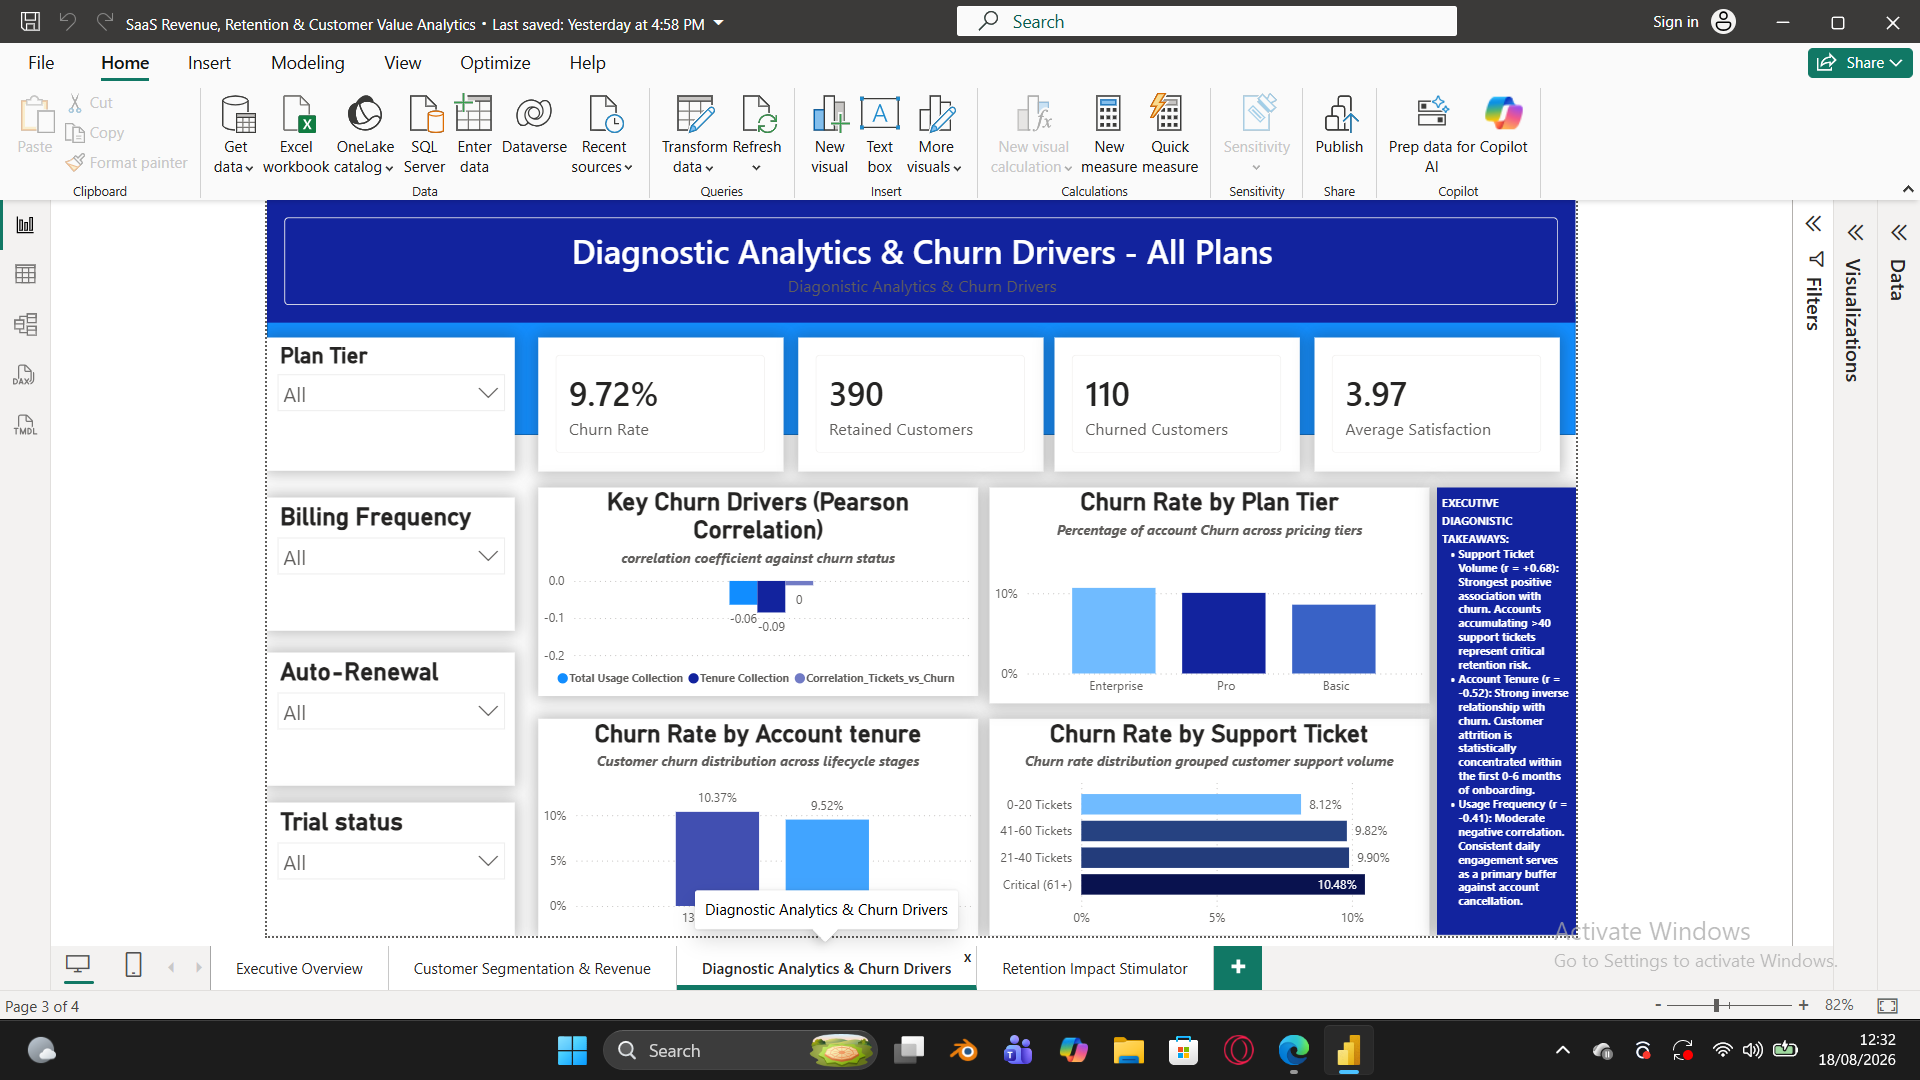

What the dashboard file says about the page in this screenshot:
{"tool":"powerbi","page":{"name":"Diagnostic Analytics & Churn Drivers","canvas":[1280,720],"ordinal":2},"visuals":[{"type":"shape","box":[0,100.3,1280.3,129.6],"z":0},{"type":"slicer","fields":{"Values":["clean_subscriptions.plan_tier"]},"box":[0,134.8,242.4,130.3],"z":1000},{"type":"slicer","fields":{"Values":["clean_subscriptions.billing_frequency"]},"box":[0,290.9,242.4,130.3],"z":2000},{"type":"slicer","fields":{"Values":["clean_subscriptions.auto_renew_flag"]},"box":[0,442.4,242.4,130.3],"z":3000},{"type":"slicer","fields":{"Values":["clean_subscriptions.is_trial"]},"box":[0,589.4,242.4,130.3],"z":4000},{"type":"cardVisual","fields":{"Data":["clean_accounts.Churn Rate"]},"box":[265.4,134.5,239.7,130.8],"z":5000},{"type":"cardVisual","fields":{"Data":["clean_accounts.Retained Customers"]},"box":[519.7,134.5,239.7,130.8],"z":6000},{"type":"cardVisual","fields":{"Data":["clean_accounts.Churned Customers"]},"box":[770.4,134.5,239.7,130.8],"z":7000},{"type":"cardVisual","fields":{"Data":["clean_feature_usage.Average Satisfaction"]},"box":[1024.7,134.5,239.7,130.8],"z":8000},{"type":"clusteredColumnChart","title":"Key Churn Drivers (Pearson Correlation)","fields":{"Y":["clean_accounts.Correlation (Churn vs Usage)","clean_accounts.Correlation_TenureMonth_vs_Churn","clean_accounts.Correlation_Tickets_vs_Churn"]},"box":[265.4,281.3,430,204.2],"z":9000},{"type":"clusteredColumnChart","title":"Churn Rate by Account tenure","fields":{"Y":["clean_accounts.Churn Rate"],"Category":["clean_accounts.Tenure_Buckets"]},"box":[265.4,507.5,430,212.8],"z":10000},{"type":"clusteredBarChart","title":"Churn Rate by Support Ticket","fields":{"Y":["clean_accounts.Churn Rate"],"Category":["clean_accounts.Ticket_Bucket"]},"box":[706.8,507.5,430,212],"z":11000},{"type":"clusteredColumnChart","title":"Churn Rate by Plan Tier","fields":{"Category":["clean_accounts.plan_tier"],"Y":["clean_accounts.Churn Rate"]},"box":[706.8,281.3,430.4,211.6],"z":12000},{"type":"cardVisual","fields":{"Data":["clean_accounts.Diagonistic Analytics & Churn Drivers"]},"box":[0,0,1280.3,120],"z":13000},{"type":"textbox","box":[1144.6,281.3,135.7,437.8],"z":14000}]}

Visuals, with their boxes on the page's 1280x720 design canvas (x1, y1, x2, y2). These are canvas units, not pixel positions in the 1920x1080 screenshot, which may show the page scaled, cropped or inside an application window:
shape: 0,100,1280,230
slicer - clean_subscriptions.plan_tier: 0,135,242,265
slicer - clean_subscriptions.billing_frequency: 0,291,242,421
slicer - clean_subscriptions.auto_renew_flag: 0,442,242,573
slicer - clean_subscriptions.is_trial: 0,589,242,720
cardVisual - clean_accounts.Churn Rate: 265,134,505,265
cardVisual - clean_accounts.Retained Customers: 520,134,759,265
cardVisual - clean_accounts.Churned Customers: 770,134,1010,265
cardVisual - clean_feature_usage.Average Satisfaction: 1025,134,1264,265
"Key Churn Drivers (Pearson Correlation)" clusteredColumnChart: 265,281,695,486
"Churn Rate by Account tenure" clusteredColumnChart: 265,508,695,720
"Churn Rate by Support Ticket" clusteredBarChart: 707,508,1137,720
"Churn Rate by Plan Tier" clusteredColumnChart: 707,281,1137,493
cardVisual - clean_accounts.Diagonistic Analytics & Churn Drivers: 0,0,1280,120
textbox: 1145,281,1280,719
